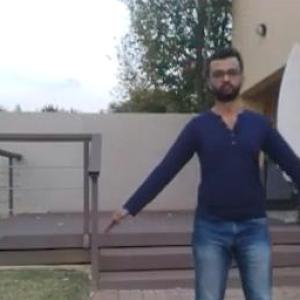land: (117, 58, 299, 298)
